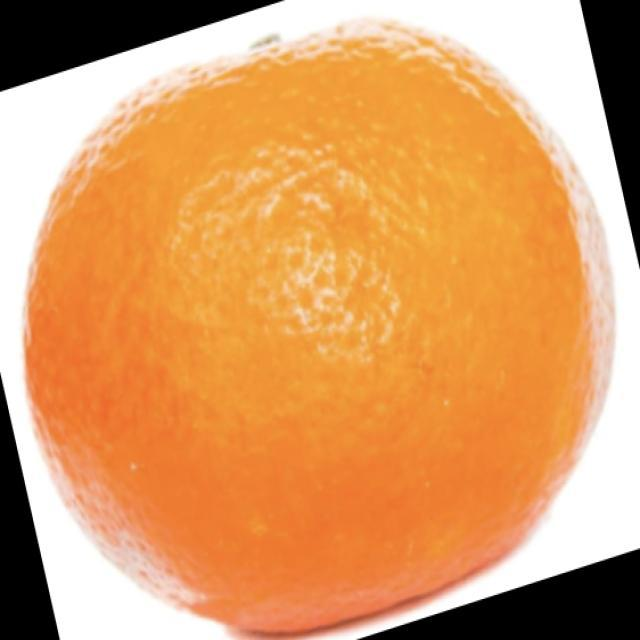matang: (25, 21, 613, 634)
